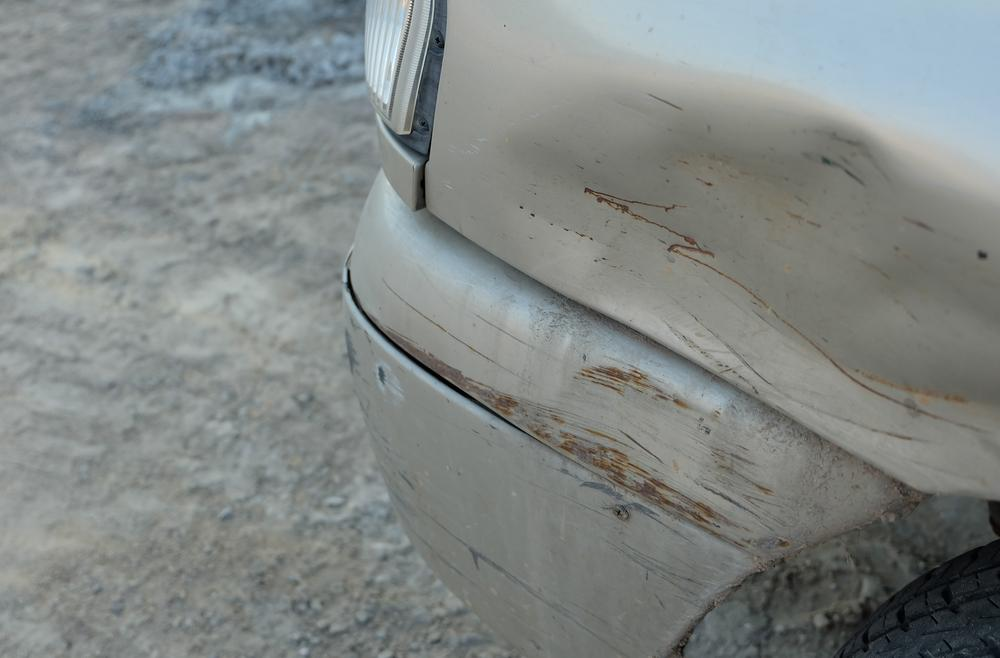dent: (503, 87, 1000, 498)
scratch: (341, 280, 892, 562), (341, 292, 756, 658)
